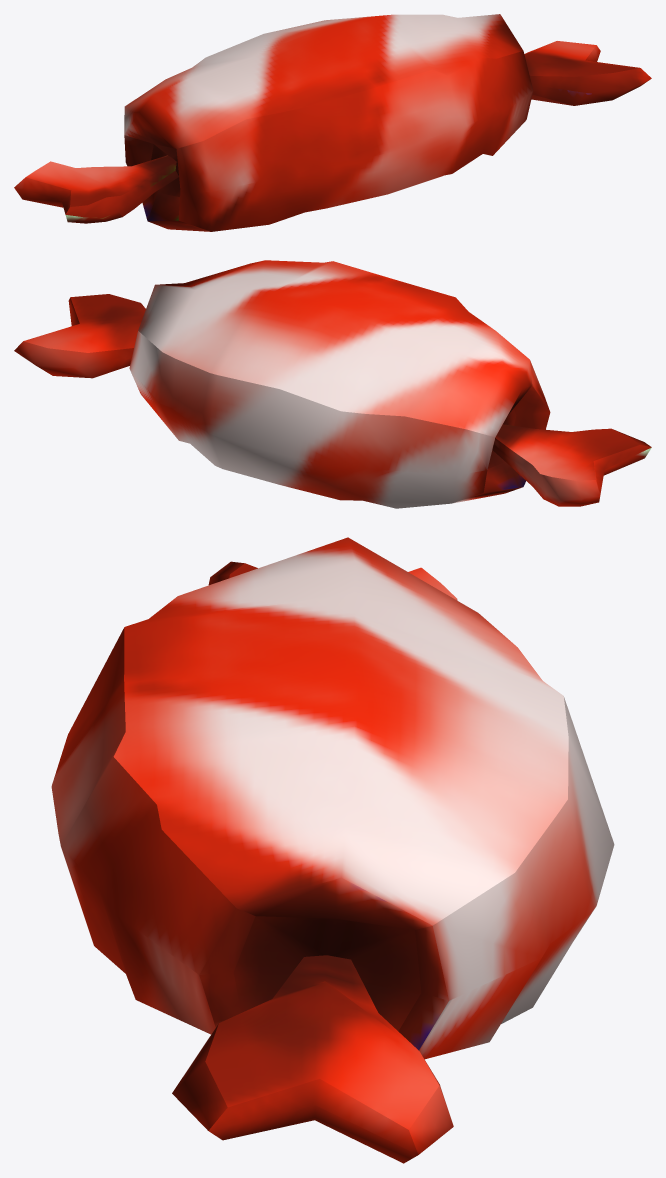
Rendered from assets_same_uvset_dulce_rojo.fbx.
The picture shows the model from 3 angles, top to bottom: view 1: azimuth 30°, elevation 25°; view 2: azimuth 150°, elevation 25°; view 3: azimuth 270°, elevation 25°; orthographic projection. The views are drawn at different scales.
Visible parts, largest first — view 1: assets_same_uvset:dulce_rojo; view 2: assets_same_uvset:dulce_rojo; view 3: assets_same_uvset:dulce_rojo.
Boxes of the visible parts, <box> form: assets_same_uvset:dulce_rojo: <box>14,14,651,231</box>; assets_same_uvset:dulce_rojo: <box>14,260,651,508</box>; assets_same_uvset:dulce_rojo: <box>51,537,614,1163</box>.
Size of the model in its own units: 2.85 by 0.7114 by 1.19.
1 material, 1 textured.
